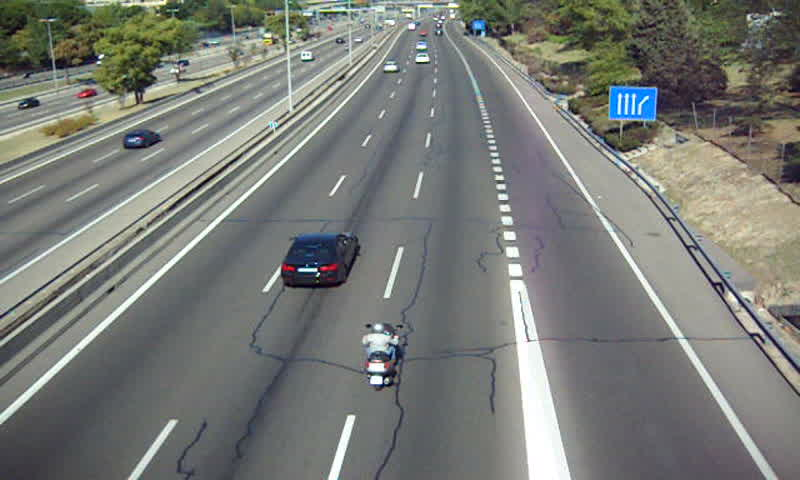car: (281, 232, 359, 288), (413, 53, 432, 65), (382, 60, 397, 74)
motorcycle: (361, 321, 406, 390)
